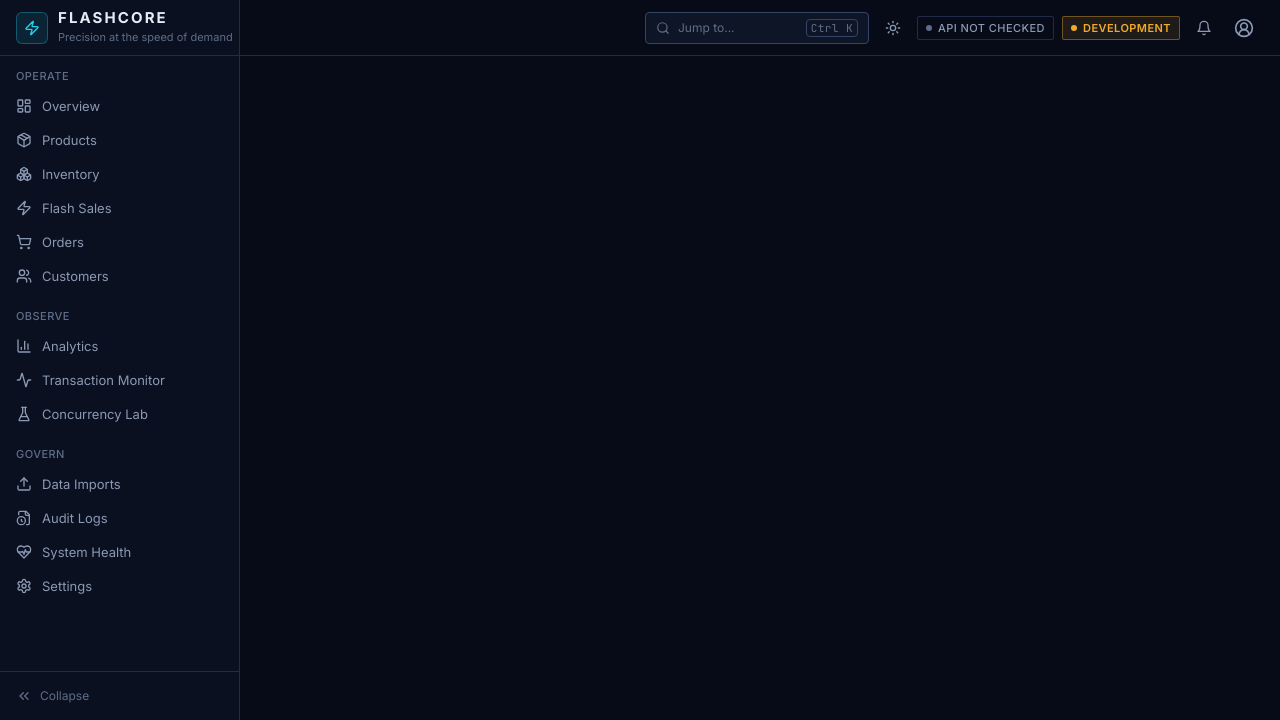
Scenario: AppShell › collapses the sidebar
Click the button with aria-label "Collapse navigation" at (120, 696), box [8, 680, 231, 712]
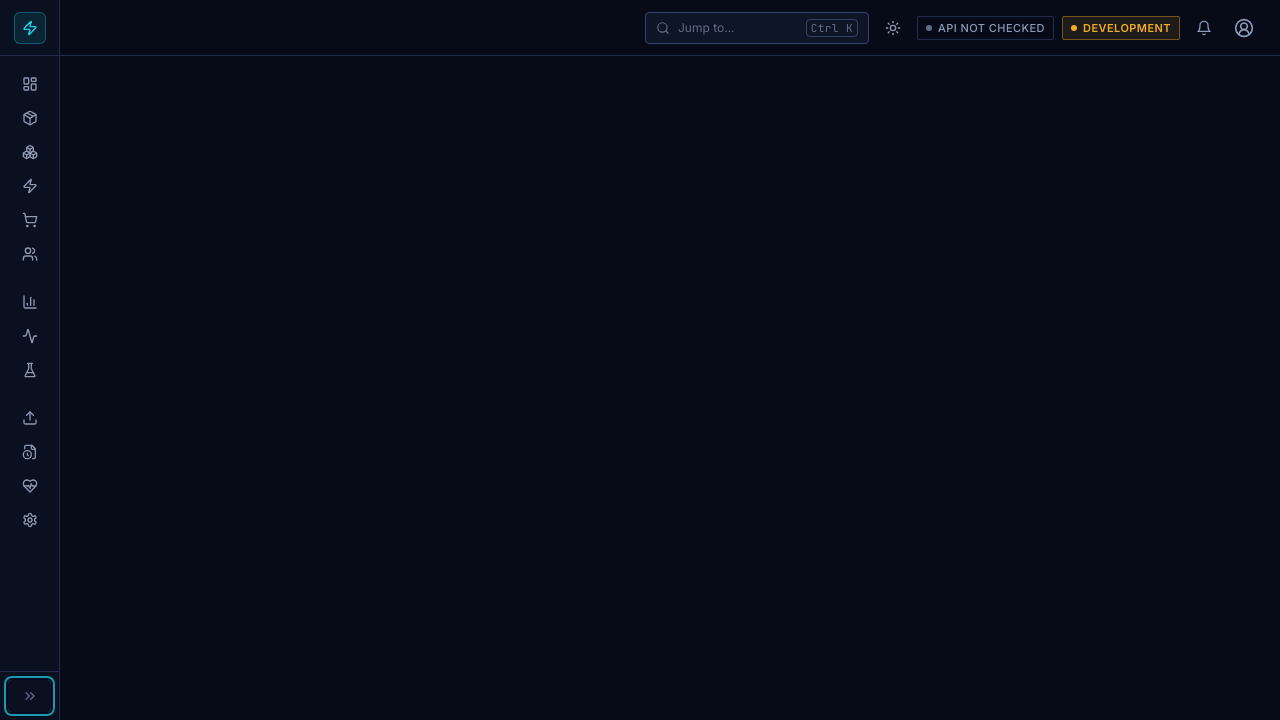
expect the button named "Expand navigation" is shown: met, box [8, 680, 51, 712]
